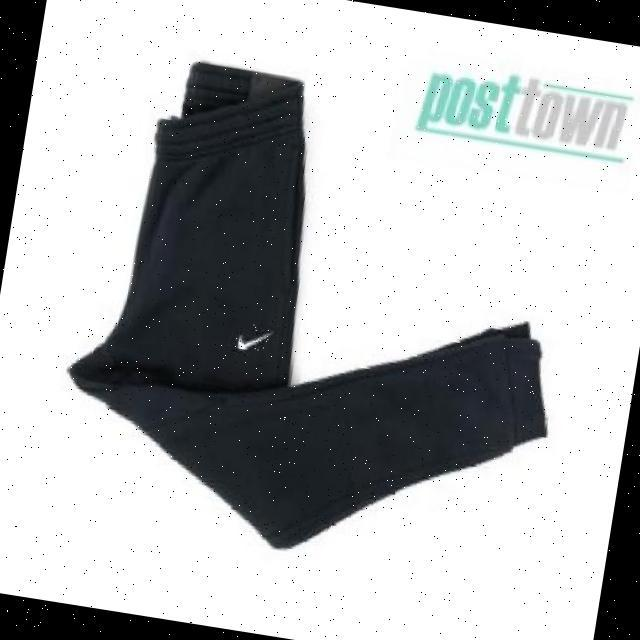Nike: (234, 321, 271, 352)
